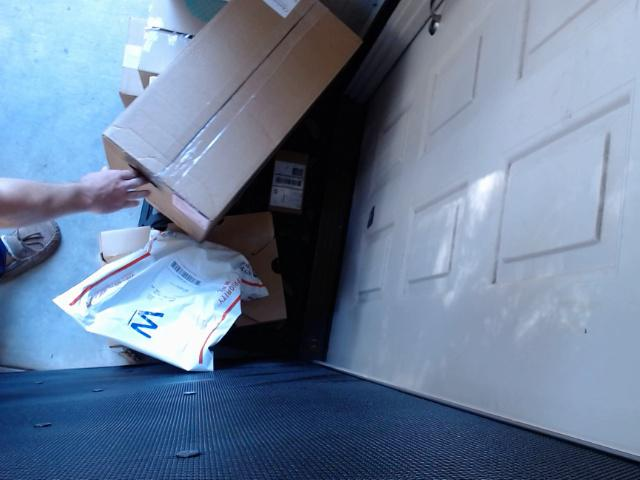box: (78, 0, 368, 226), (90, 210, 318, 324), (112, 8, 221, 86), (261, 150, 325, 233)
plastic_bag: (41, 252, 284, 362)
